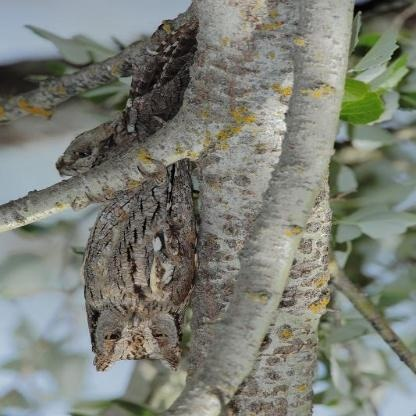Owl: (86, 50, 197, 360)
